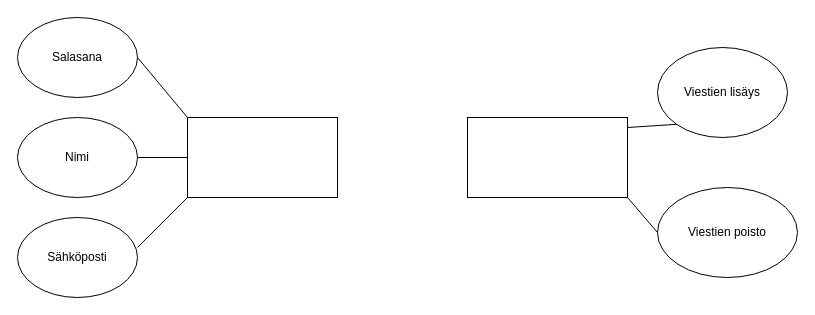
Some shapes in this 815 by 315 pixel diagram are drawn without their labels. The shapes that lost their labels are listed below. From the top down, each one's centre as x and y in pixels, then its label:
At [262,157]: "Käyttäjä".
At [547,157]: "Viestit".
